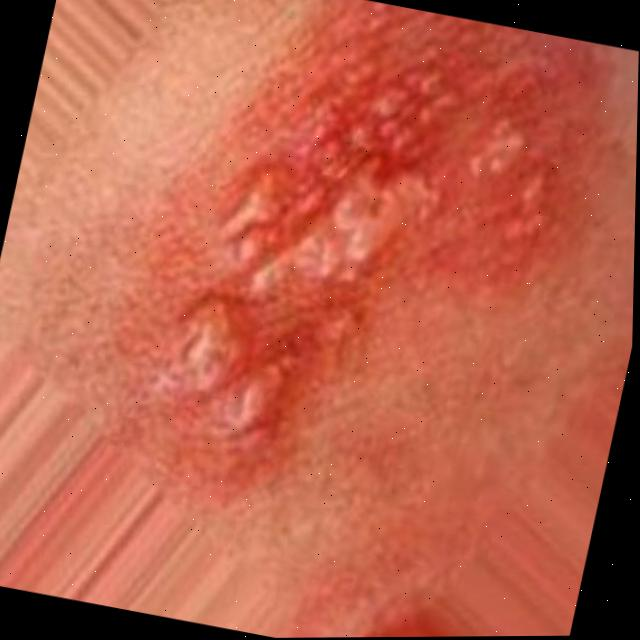Shingles: (48, 0, 589, 546)
